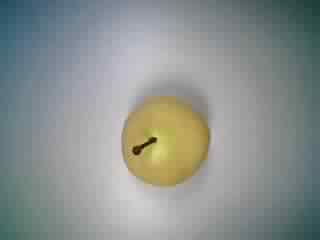pear: (110, 83, 217, 195)
